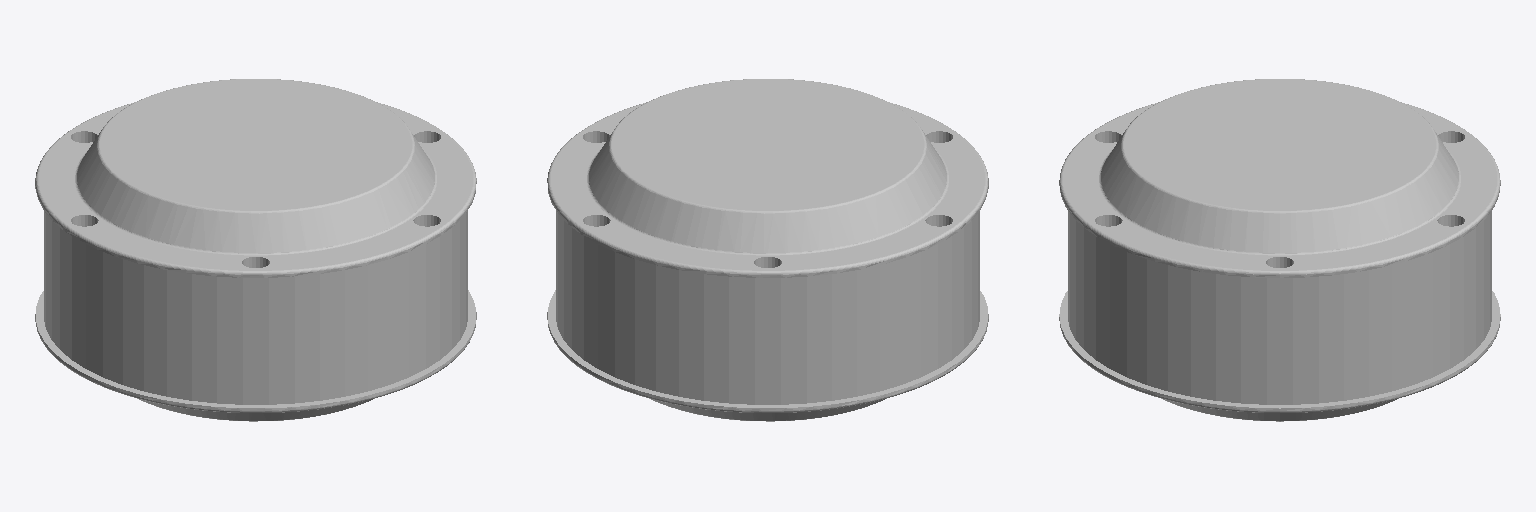
The model's file is wheel_l2_0.obj.
3 views of the same model, side by side, from view 1: azimuth 30°, elevation 25°; view 2: azimuth 150°, elevation 25°; view 3: azimuth 270°, elevation 25° (orthographic).
Bounding box in the file's own units: 0.135 × 0.075 × 0.135.